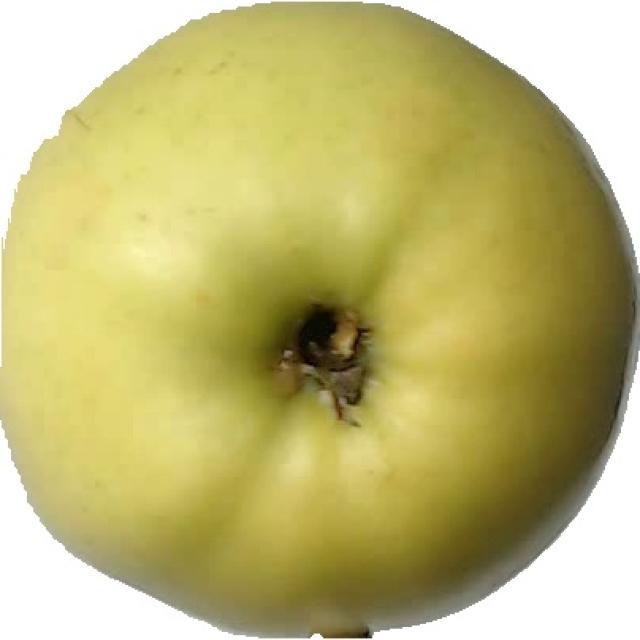Golden Elma: (6, 3, 638, 640)
